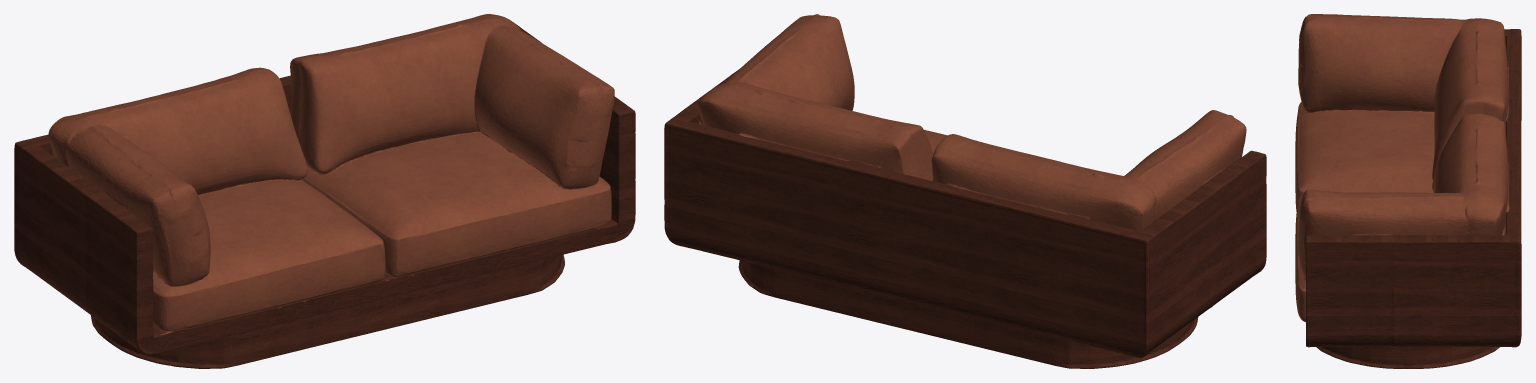
Rendered from WoodLeather2Seater.glb.
3 renders of one model, left to right at view 1: azimuth 30°, elevation 25°; view 2: azimuth 150°, elevation 25°; view 3: azimuth 270°, elevation 25°, orthographic. The views are drawn at different scales.
Visible parts, largest first — view 1: world.003; view 2: world.003; view 3: world.003.
Part boxes in pixels (box(x1,y1,x2,y2)): world.003: box(14, 14, 635, 368); world.003: box(664, 14, 1266, 368); world.003: box(1295, 14, 1521, 368).
Bounding box in the file's own units: 1 × 0.375 × 0.4498.
Materials: 2 (2 with a texture image).
